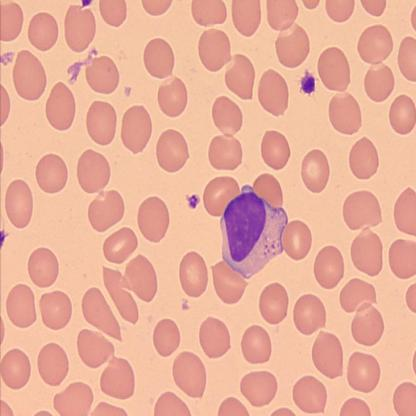Atypical lymphocyte: (220, 184, 289, 278)
